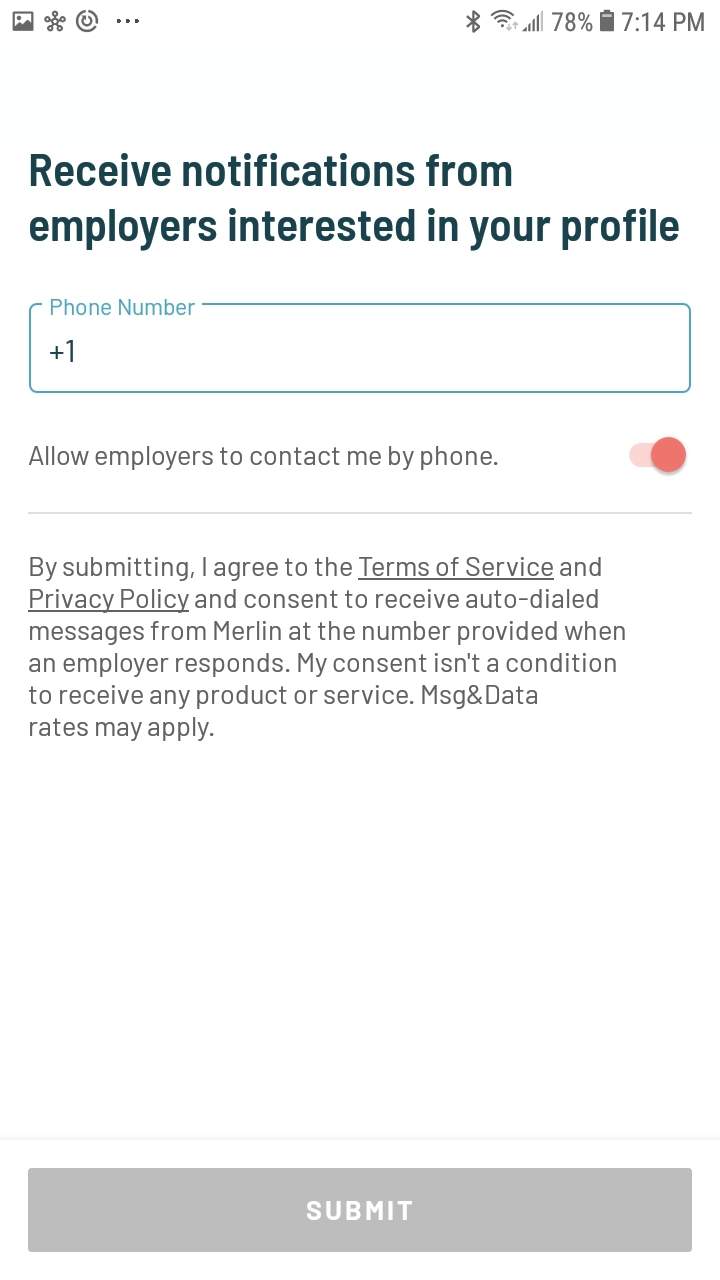EditText: (29, 299, 691, 394)
Switch: (629, 436, 687, 473)
Text: (29, 557, 626, 742), (30, 153, 680, 252), (30, 446, 498, 471), (52, 299, 196, 316), (50, 341, 74, 363)
TextButton: (28, 1168, 692, 1252)
UpperTaskBar: (1, 1, 720, 34)
